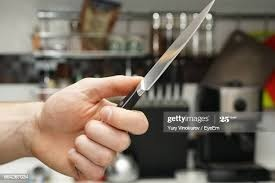knife: (118, 1, 214, 109)
